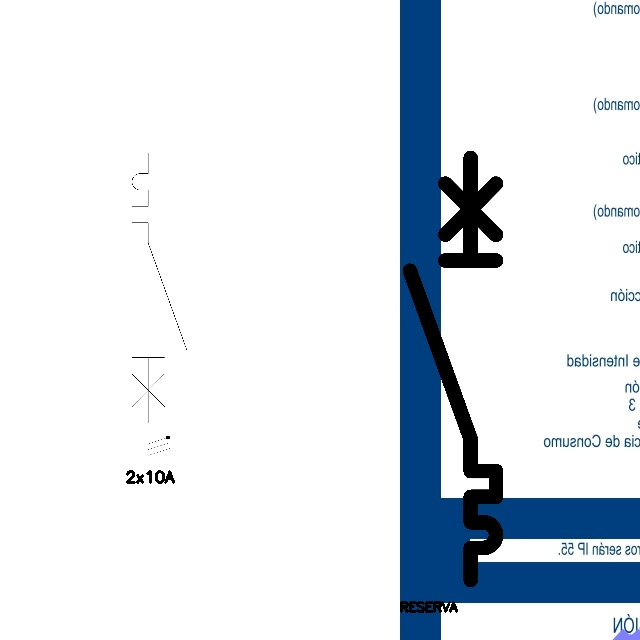interruptor_termomagnetico: (399, 147, 507, 591), (125, 146, 194, 430)
